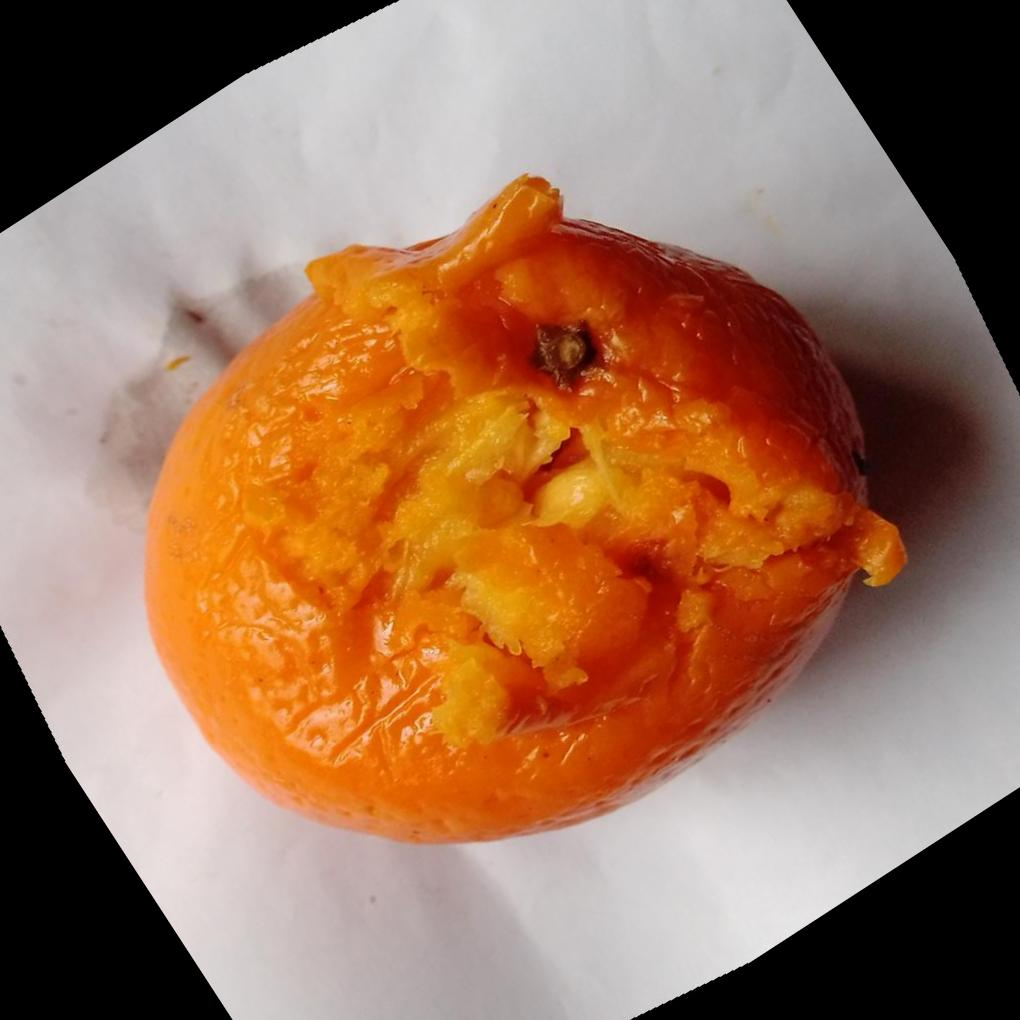FreshOrange: (144, 174, 909, 851)
